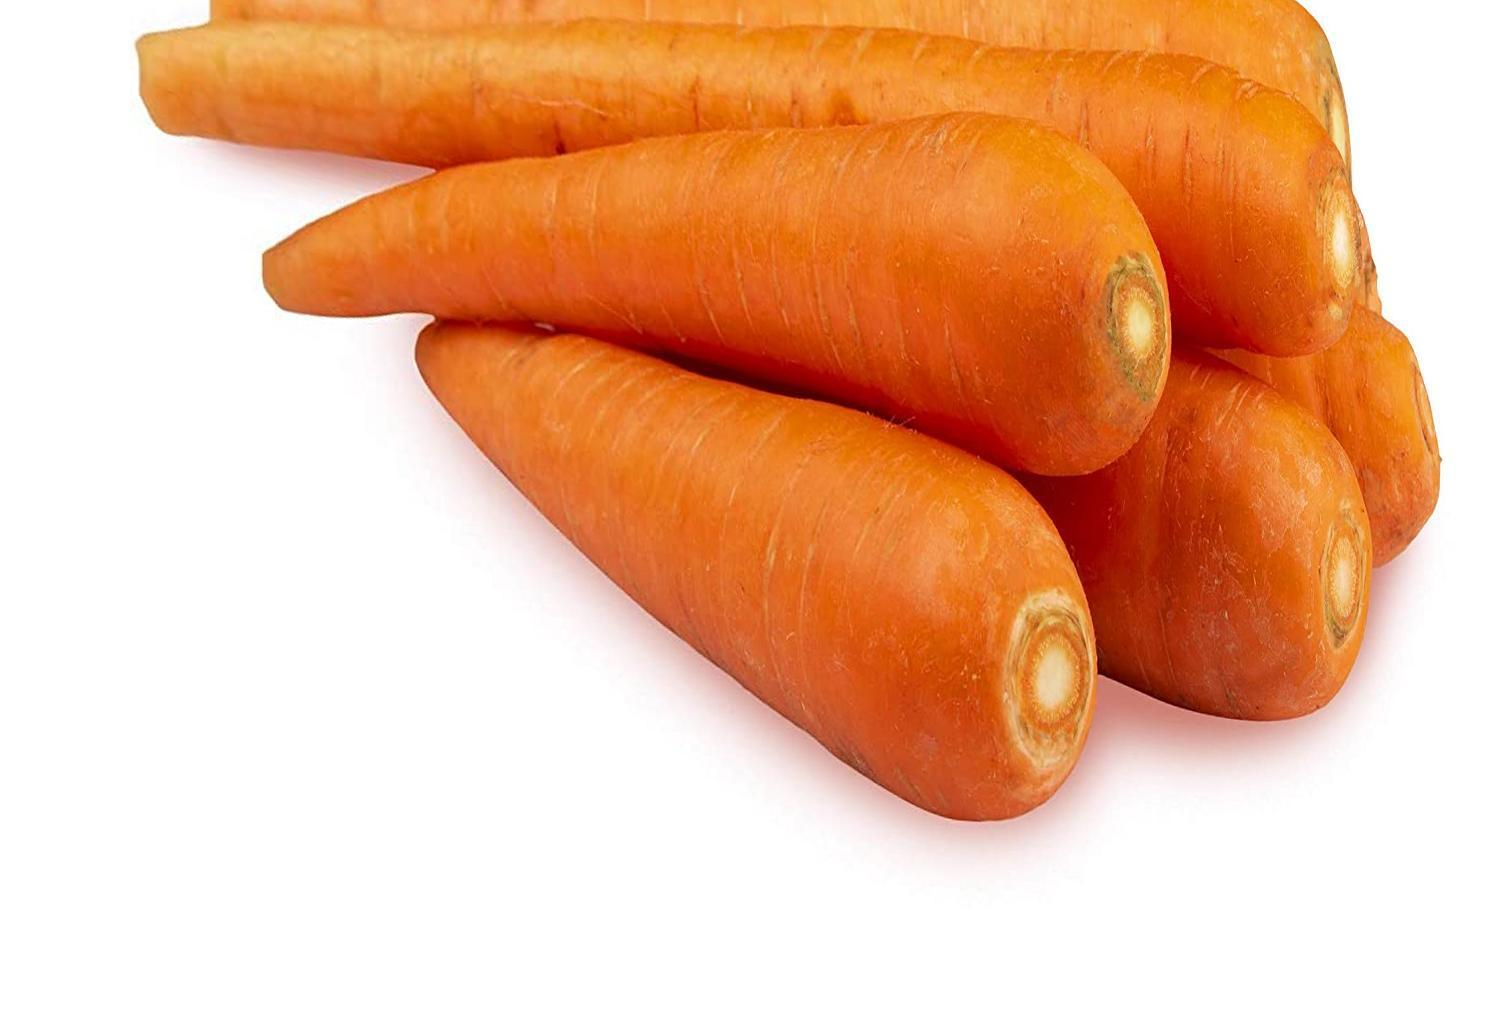carrot: (0, 0, 1456, 852), (111, 8, 1441, 381), (411, 267, 1108, 820), (234, 168, 1193, 466)
